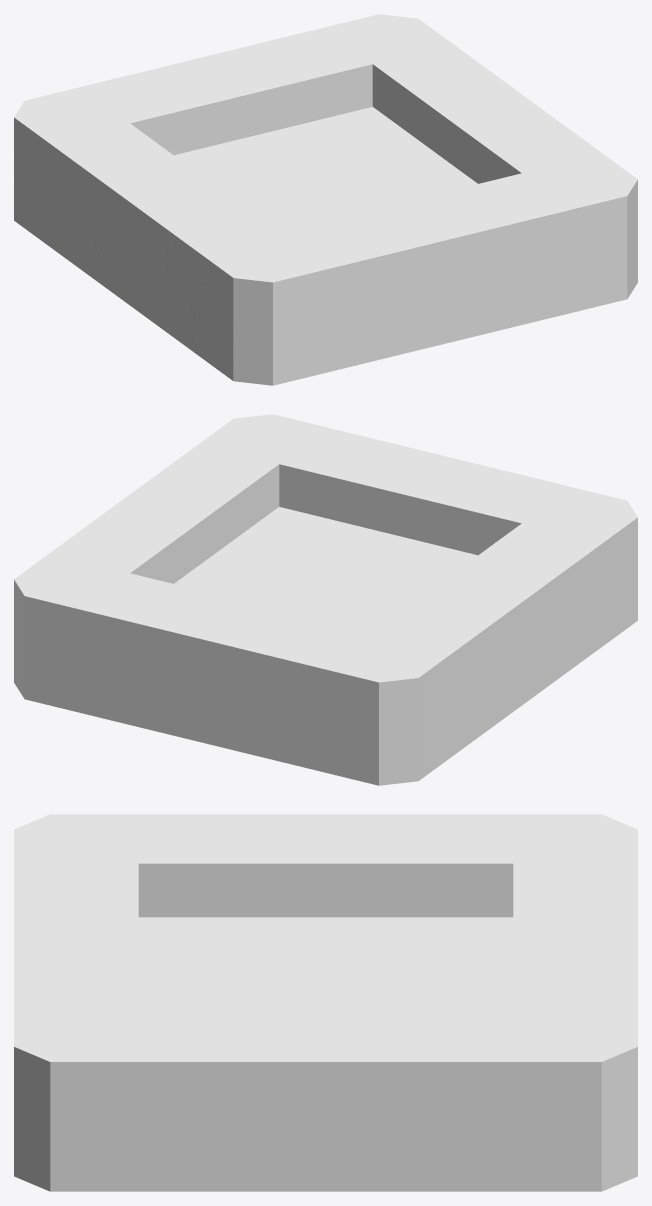
Rendered from CandleHolder-V.1.fbx.
The picture shows the model from 3 angles, top to bottom: view 1: azimuth 30°, elevation 25°; view 2: azimuth 150°, elevation 25°; view 3: azimuth 270°, elevation 25°; orthographic projection. The views are drawn at different scales.
Visible parts, largest first — view 1: CandleHolder; view 2: CandleHolder; view 3: CandleHolder.
Part boxes in pixels (x1=…): CandleHolder: x1=14, y1=14, x2=637, y2=385; CandleHolder: x1=14, y1=414, x2=637, y2=785; CandleHolder: x1=14, y1=814, x2=637, y2=1191.
Bounding box in the file's own units: 148 × 36.05 × 157.
